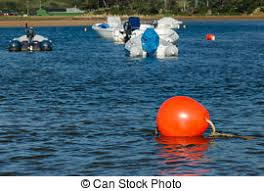buoy: (157, 97, 210, 139), (206, 33, 215, 41)
